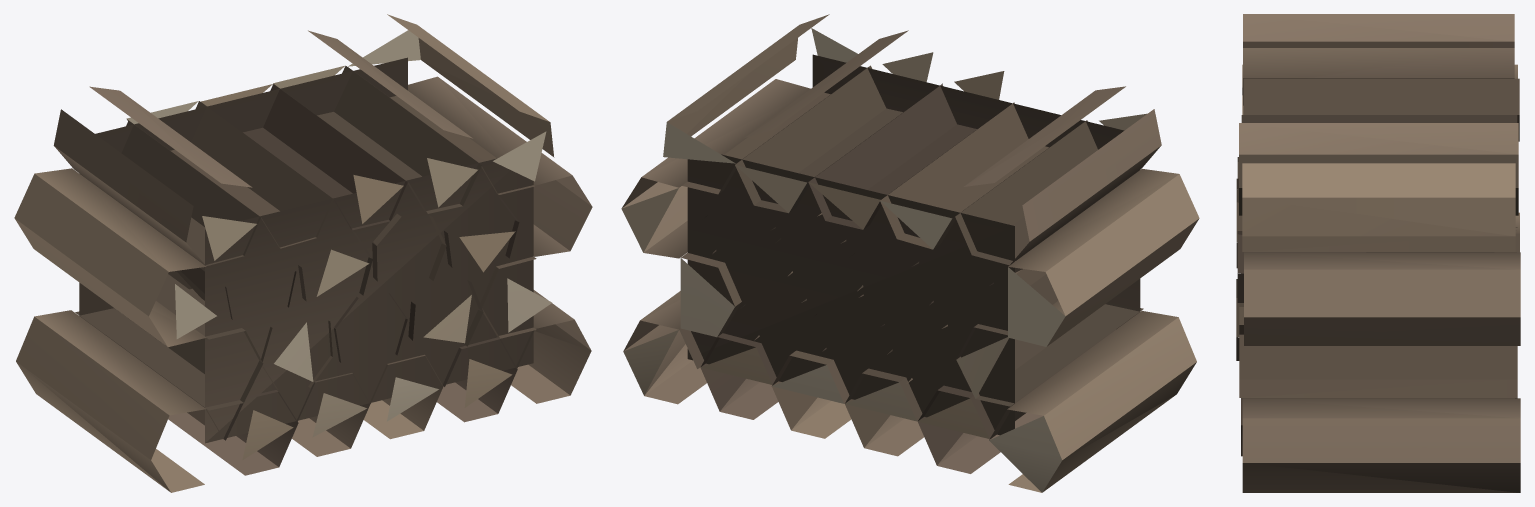
File: firewood.lod.glb
3 renders of one model, left to right at view 1: azimuth 30°, elevation 25°; view 2: azimuth 150°, elevation 25°; view 3: azimuth 270°, elevation 25°, orthographic. The views are drawn at different scales.
Visible parts, largest first — view 1: firewood; view 2: firewood; view 3: firewood.
Boxes of the visible parts, bbox=[...] form: firewood: bbox=[14, 14, 592, 492]; firewood: bbox=[621, 14, 1199, 492]; firewood: bbox=[1236, 14, 1520, 492].
Bounding box in the file's own units: 1.9 × 1.21 × 1.05.
